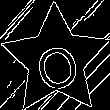O_N: (28, 29, 84, 91)
